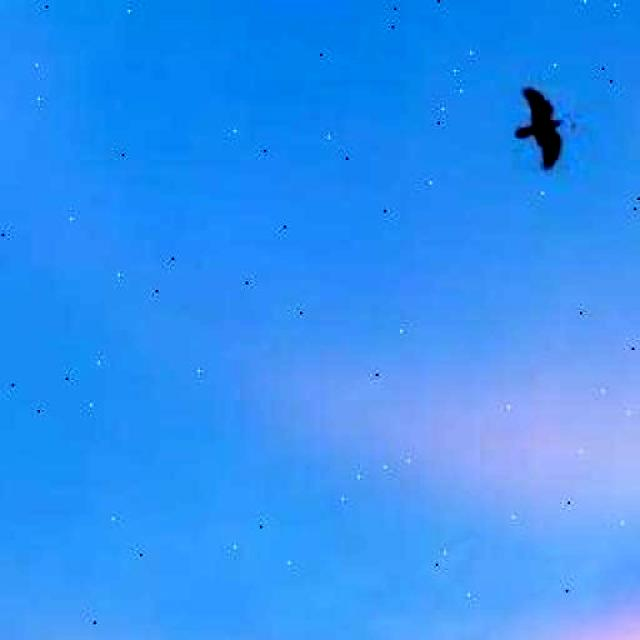airplane: (510, 82, 576, 175)
